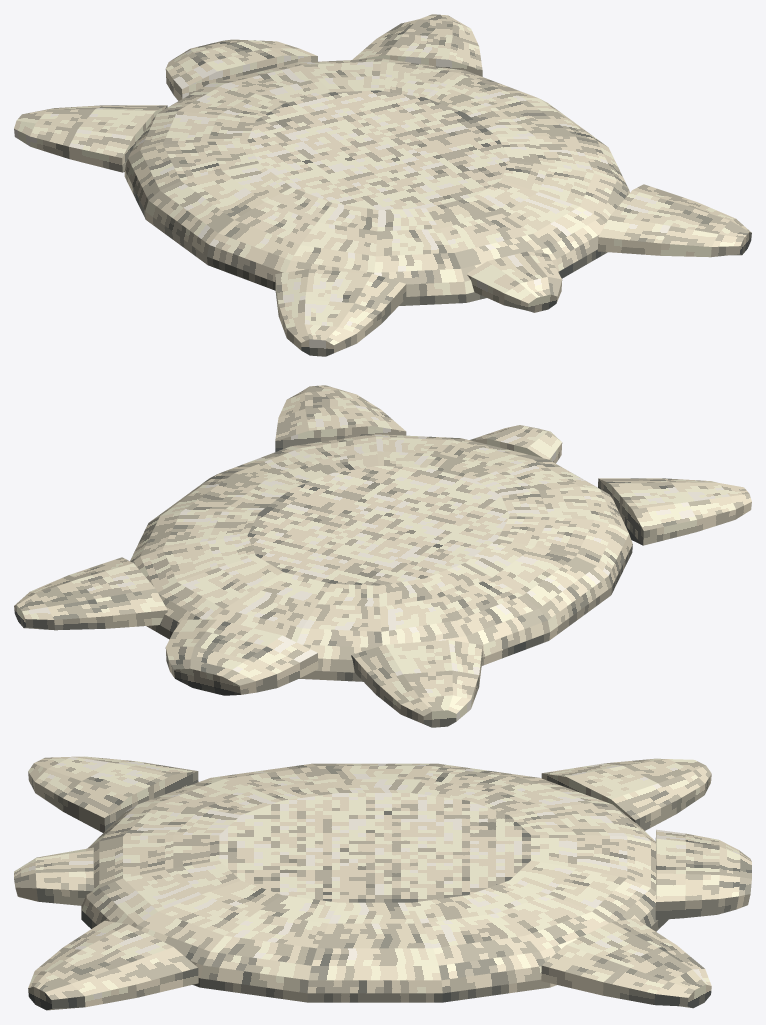
File: sheepskin_rug.glb
3 views of the same model, one above another, from view 1: azimuth 30°, elevation 25°; view 2: azimuth 150°, elevation 25°; view 3: azimuth 270°, elevation 25° (orthographic). The views are drawn at different scales.
Visible parts, largest first — view 1: fleece, flap2, flap3, flap, neck, flap1, tail; view 2: fleece, neck, flap, flap1, flap2, flap3, tail; view 3: fleece, flap3, flap1, flap2, neck, flap, tail.
Boxes of the visible parts, x1,y1,x2,y2 form: fleece: (124, 58, 629, 305); flap2: (275, 269, 406, 356); flap3: (597, 184, 751, 257); flap: (14, 105, 167, 172); neck: (165, 39, 317, 100); flap1: (352, 14, 482, 76); tail: (467, 251, 562, 312); fleece: (130, 434, 632, 681); neck: (165, 619, 318, 695); flap: (351, 640, 482, 727); flap1: (14, 557, 167, 630); flap2: (598, 478, 751, 545); flap3: (275, 385, 406, 451); tail: (469, 425, 562, 463); fleece: (81, 763, 668, 1002); flap3: (28, 920, 198, 1010); flap1: (541, 918, 711, 1008); flap2: (28, 756, 198, 832); neck: (655, 829, 751, 919); flap: (541, 758, 711, 830); tail: (14, 847, 93, 905).
Bounding box in the file's own units: 1.37 × 0.125 × 1.77.
1 material, 1 textured.
